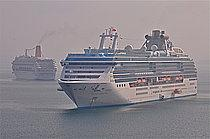Ship: (53, 24, 207, 114)
